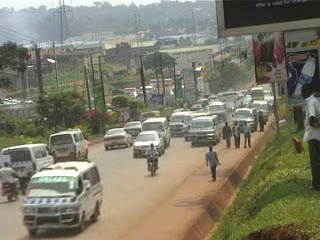Car: (131, 130, 166, 160), (102, 127, 133, 151), (122, 120, 144, 137)
Motorcycle: (1, 181, 21, 203), (144, 149, 159, 178)
